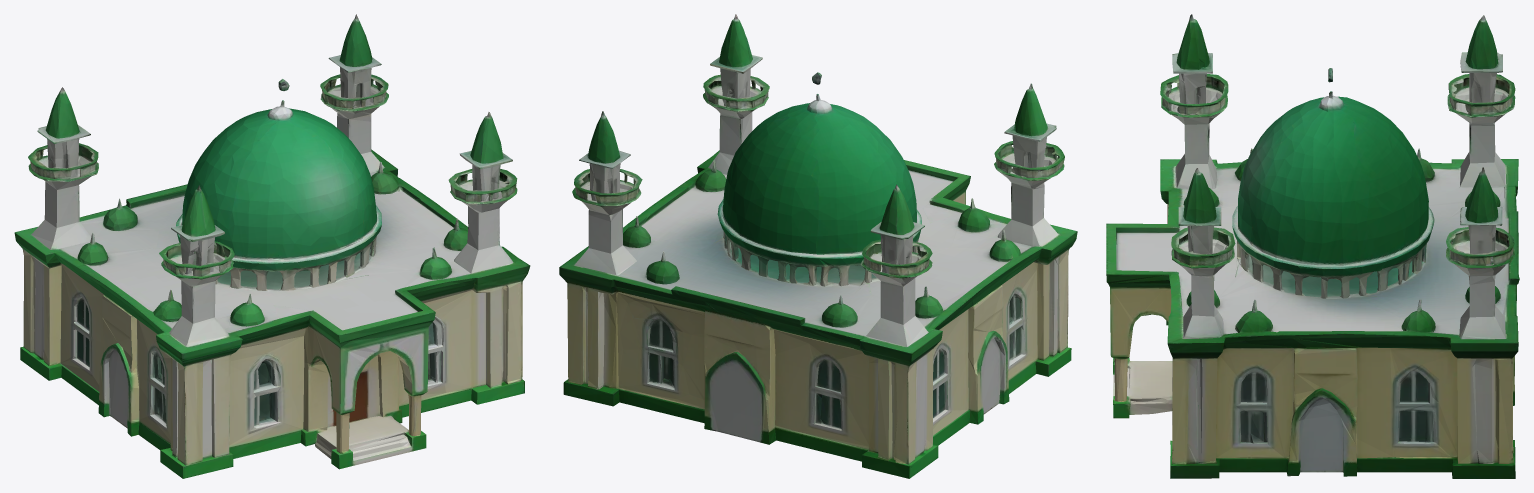
File: lm_masjid.glb
3 views of the same model, side by side, from view 1: azimuth 30°, elevation 25°; view 2: azimuth 150°, elevation 25°; view 3: azimuth 270°, elevation 25° (orthographic). The views are drawn at different scales.
Parts seen in each view (by area): view 1: geometry_0; view 2: geometry_0; view 3: geometry_0.
Part boxes in pixels (box(x1,y1,x2,y2)): geometry_0: box(14, 14, 530, 478); geometry_0: box(559, 14, 1077, 478); geometry_0: box(1106, 14, 1519, 478).
Bounding box in the file's own units: 0.9993 × 0.8267 × 0.9441.
Materials: 1 (1 with a texture image).
